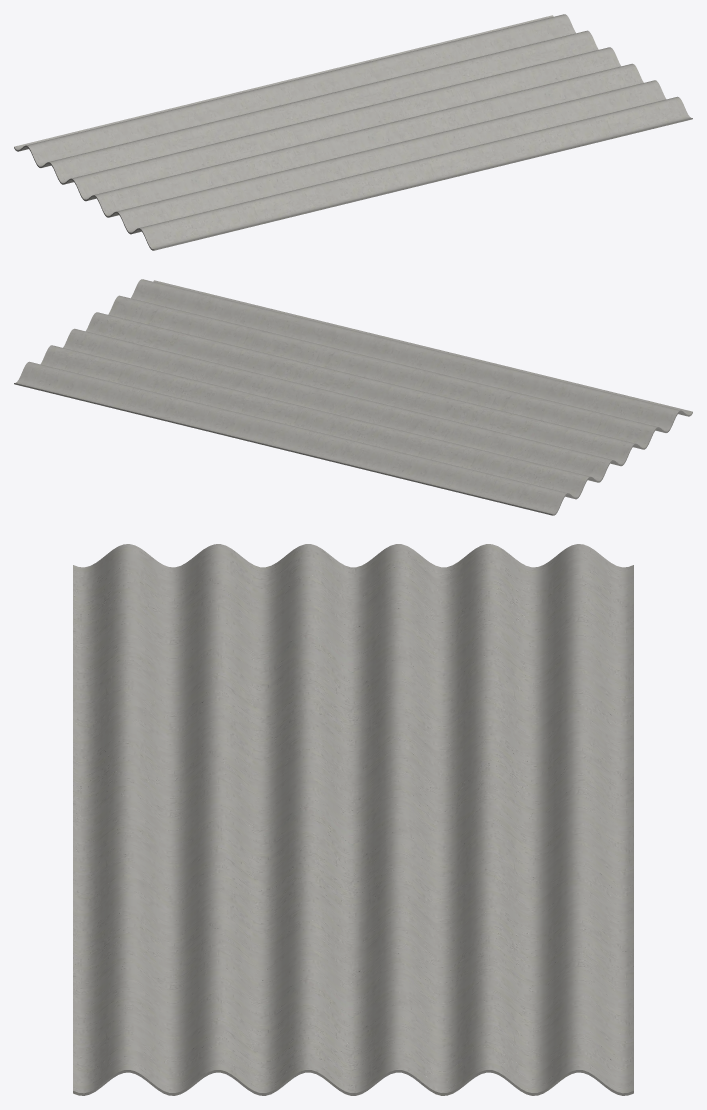
Rendered from COB-FIB-002.glb.
3 renders of one model, top to bottom at view 1: azimuth 30°, elevation 25°; view 2: azimuth 150°, elevation 25°; view 3: azimuth 270°, elevation 25°, orthographic. The views are drawn at different scales.
Visible parts, largest first — view 1: COB-FIB-002_chapa; view 2: COB-FIB-002_chapa; view 3: COB-FIB-002_chapa.
Part boxes in pixels (x1=…): COB-FIB-002_chapa: x1=14, y1=14, x2=692, y2=250; COB-FIB-002_chapa: x1=14, y1=279, x2=692, y2=515; COB-FIB-002_chapa: x1=73, y1=544, x2=633, y2=1095.
Bounding box in the file's own units: 2.44 × 0.0566 × 1.1.
Materials: 1 (1 with a texture image).
